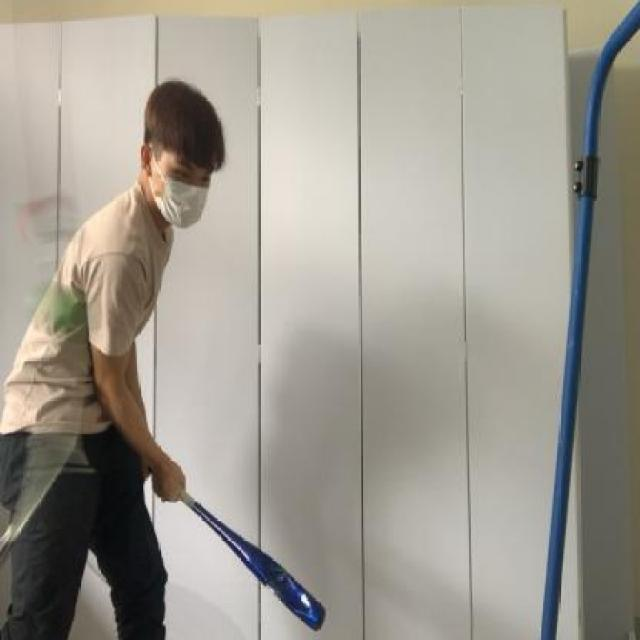baseball: (31, 273, 84, 336)
